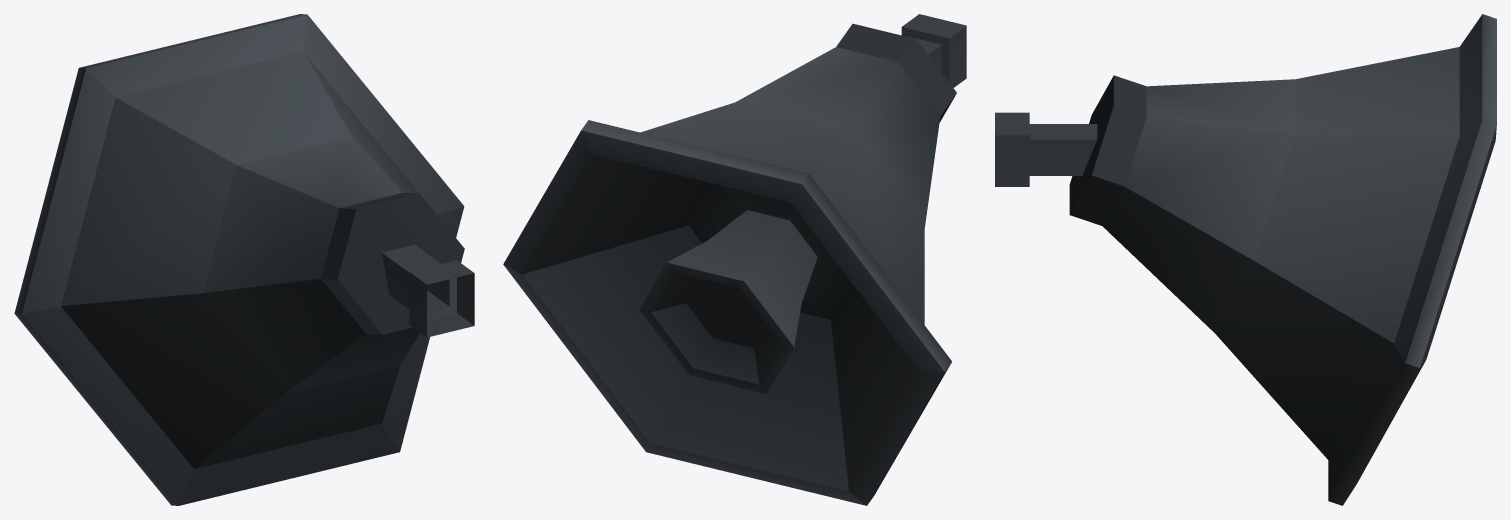
File: squidgame_props_speaker.fbx
3 renders of one model, left to right at view 1: azimuth 30°, elevation 25°; view 2: azimuth 150°, elevation 25°; view 3: azimuth 270°, elevation 25°, orthographic. The views are drawn at different scales.
Parts seen in each view (by area): view 1: squidgame_props_speaker; view 2: squidgame_props_speaker; view 3: squidgame_props_speaker.
Part boxes in pixels (x1,y1,x2,y2): squidgame_props_speaker: (14, 14, 474, 505); squidgame_props_speaker: (503, 14, 966, 505); squidgame_props_speaker: (995, 14, 1496, 505).
Bounding box in the file's own units: 0.7463 × 0.6261 × 0.7499.
